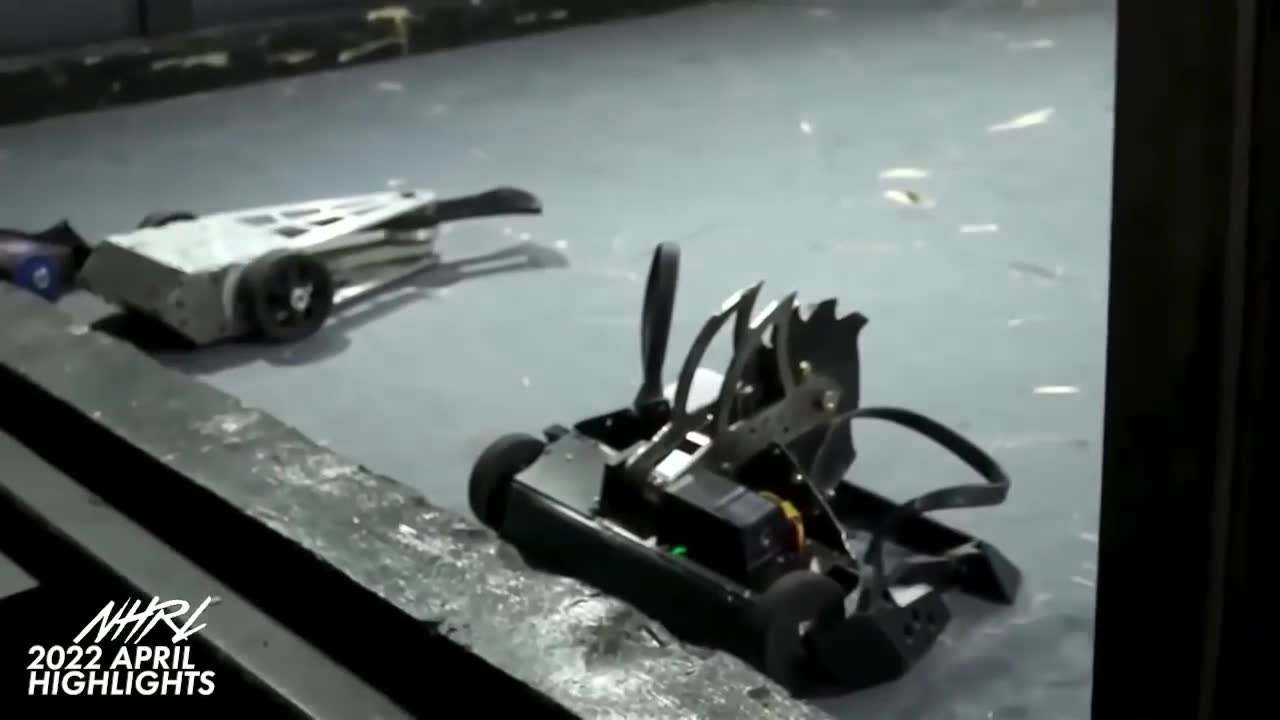combatbot: (466, 286, 1022, 696), (76, 179, 551, 361)
minibot: (0, 215, 87, 300)
